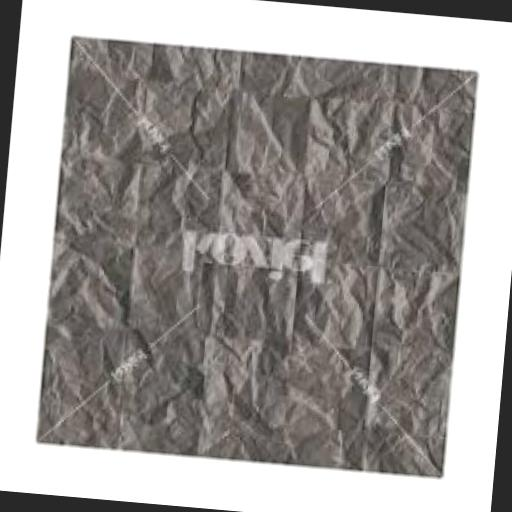paper: (32, 38, 476, 483)
